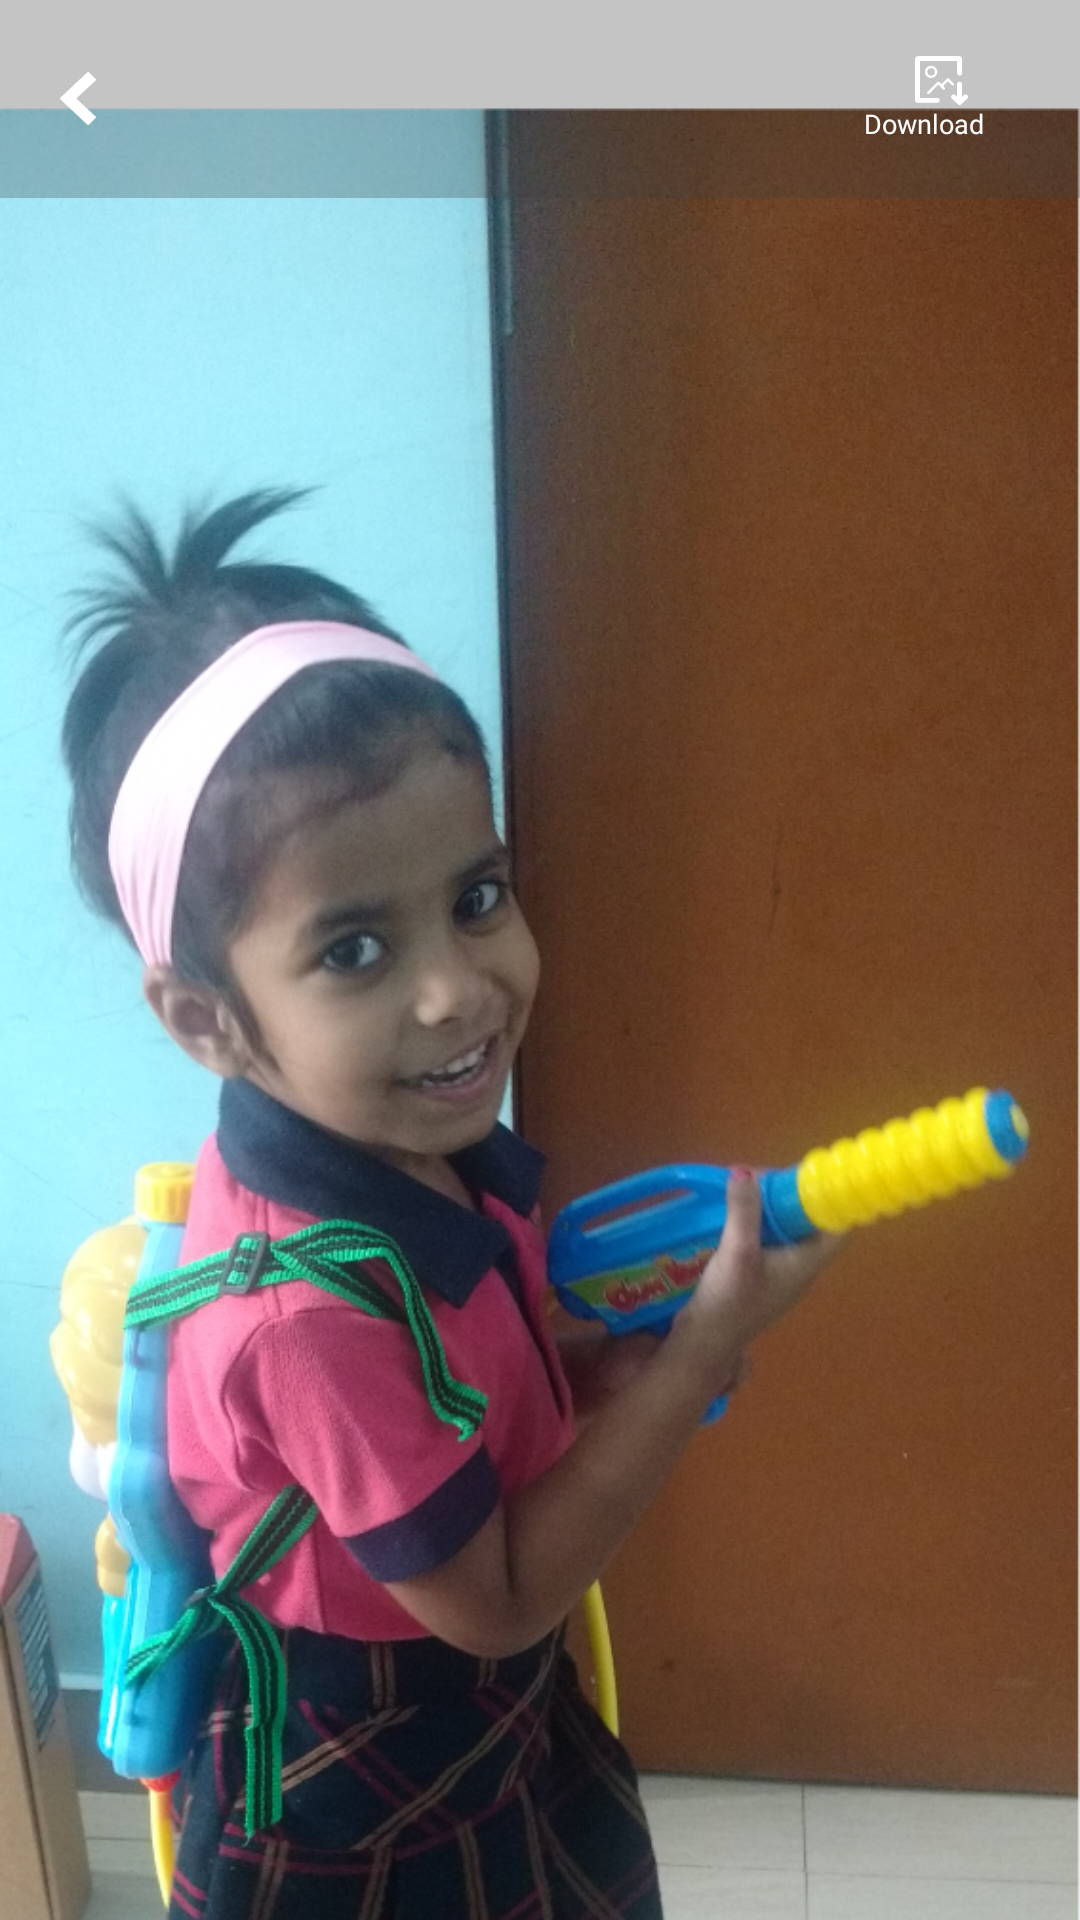

Icon click points for this 1080px×1920px phone screenshot, format (x,y):
left: (78,98)
